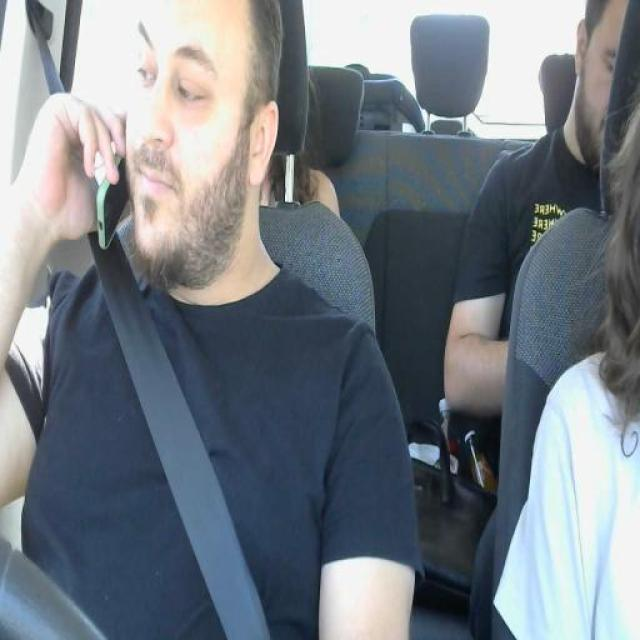phone: (90, 133, 128, 250)
